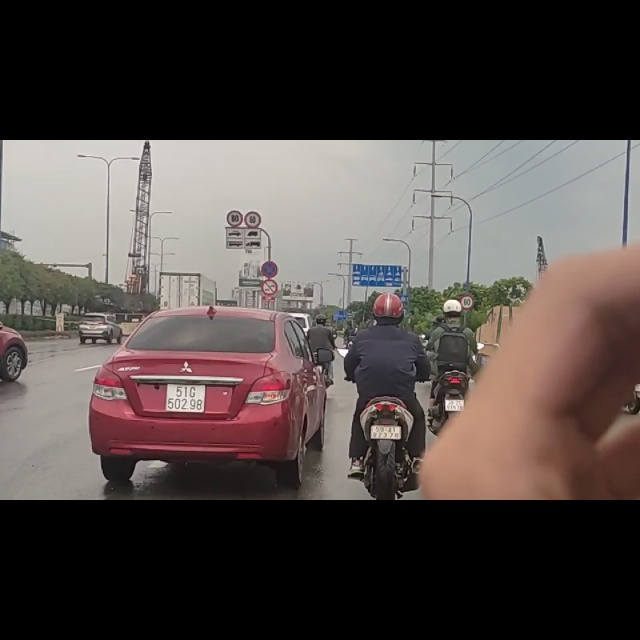bien_cam: (260, 215, 278, 244)
